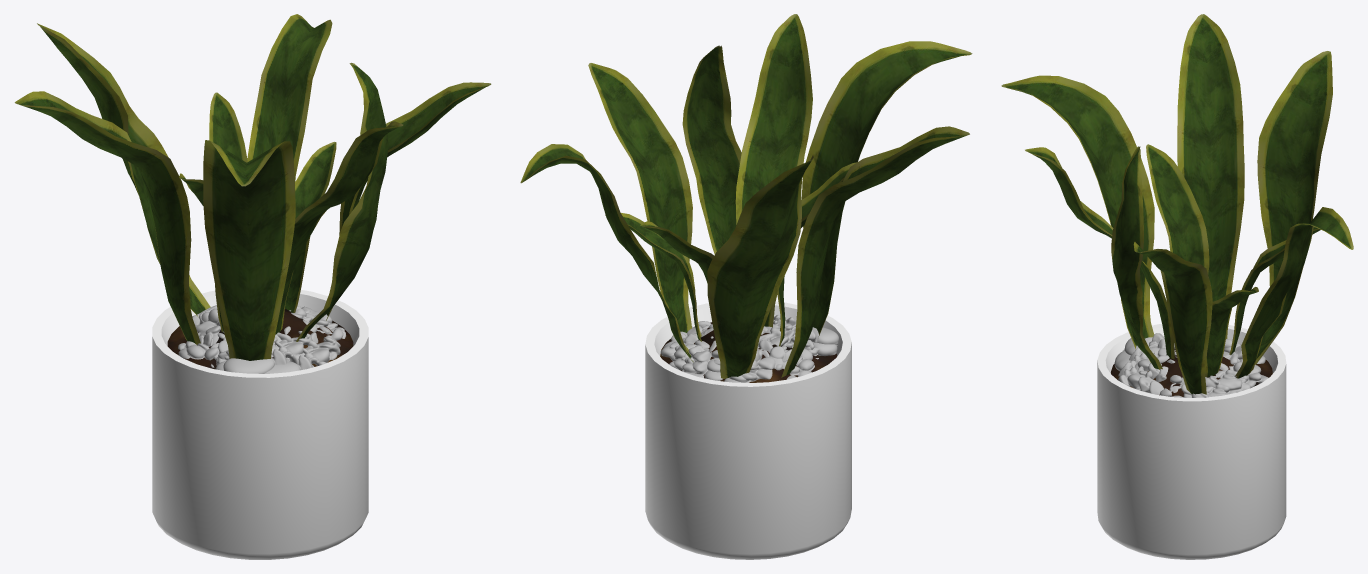
File: sansevieria.glb
The picture shows the model from 3 angles, left to right: view 1: azimuth 30°, elevation 25°; view 2: azimuth 150°, elevation 25°; view 3: azimuth 270°, elevation 25°; orthographic projection. The views are drawn at different scales.
Visible parts, largest first — view 1: Circle_002_Pot_Vase_2_0, BeachPebbles.001, BeachPebbles, BeachPebbles.002; view 2: Circle_002_Pot_Vase_2_0, BeachPebbles.001, BeachPebbles.002, BeachPebbles; view 3: Circle_002_Pot_Vase_2_0, BeachPebbles.001, BeachPebbles.
Part boxes in pixels (x1=…): Circle_002_Pot_Vase_2_0: x1=14, y1=14, x2=491, y2=559; BeachPebbles.001: x1=184, y1=305, x2=319, y2=373; BeachPebbles: x1=264, y1=306, x2=346, y2=373; BeachPebbles.002: x1=178, y1=306, x2=273, y2=370; Circle_002_Pot_Vase_2_0: x1=520, y1=14, x2=972, y2=559; BeachPebbles.001: x1=674, y1=317, x2=838, y2=382; BeachPebbles.002: x1=673, y1=337, x2=837, y2=382; BeachPebbles: x1=660, y1=315, x2=780, y2=369; Circle_002_Pot_Vase_2_0: x1=1001, y1=14, x2=1353, y2=559; BeachPebbles.001: x1=1122, y1=333, x2=1263, y2=391; BeachPebbles: x1=1114, y1=350, x2=1249, y2=397.
Bounding box in the file's own units: 0.909 × 0.9351 × 0.7272.
Materials: 6 (2 with a texture image).
